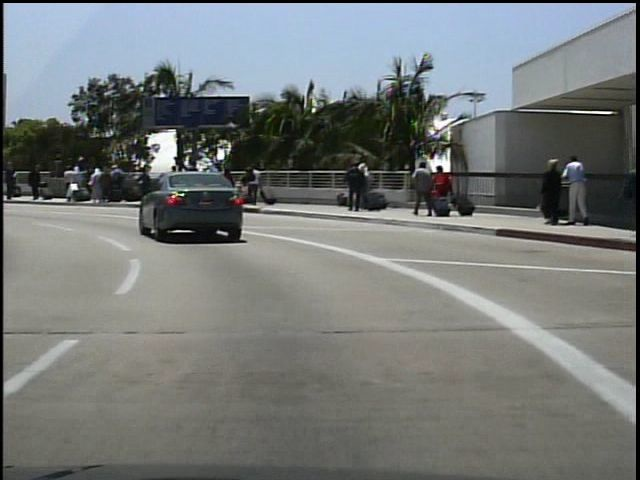person: (562, 153, 594, 228), (536, 156, 564, 230), (410, 161, 436, 222), (344, 160, 365, 215), (432, 162, 452, 216), (245, 163, 264, 208), (3, 156, 22, 201), (27, 166, 45, 202), (14, 166, 31, 204), (637, 156, 639, 240)
